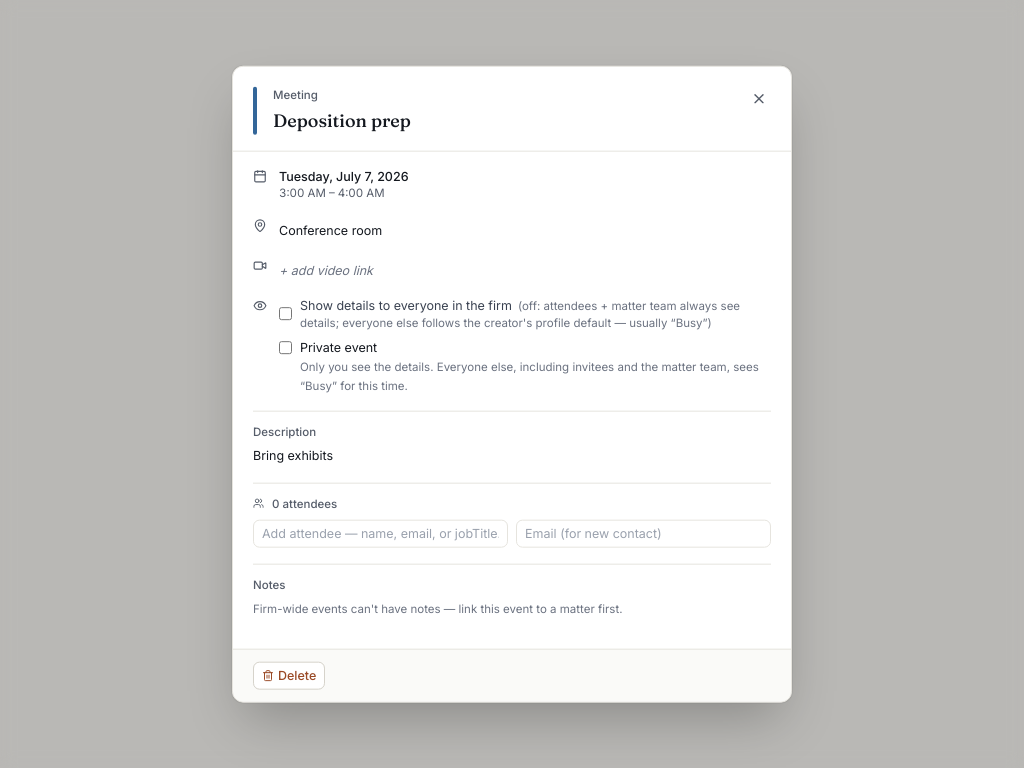
Test case: Escape handling — inline editors cancel without closing the modal › Escape in the title editor cancels the edit, keeps the modal
Click the button "Deposition prep" at (342, 121), box [269,107,415,135]
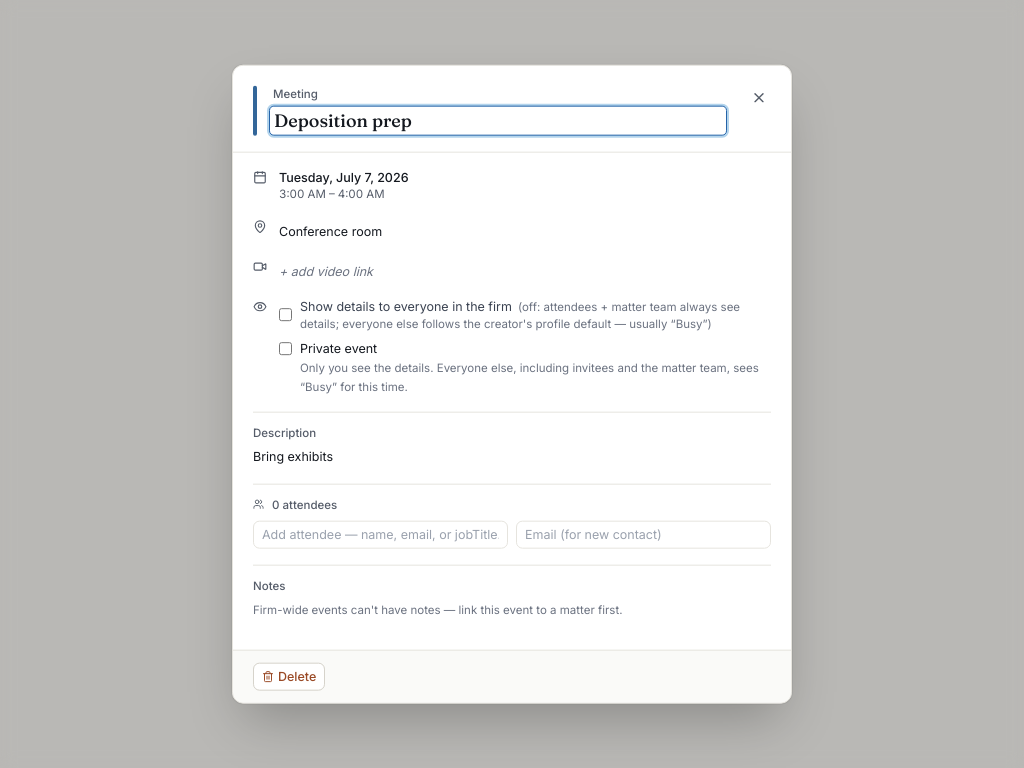
Replace the text in the field named "Event title" with "abandoned edit" at (498, 121), box [269,106,727,136]
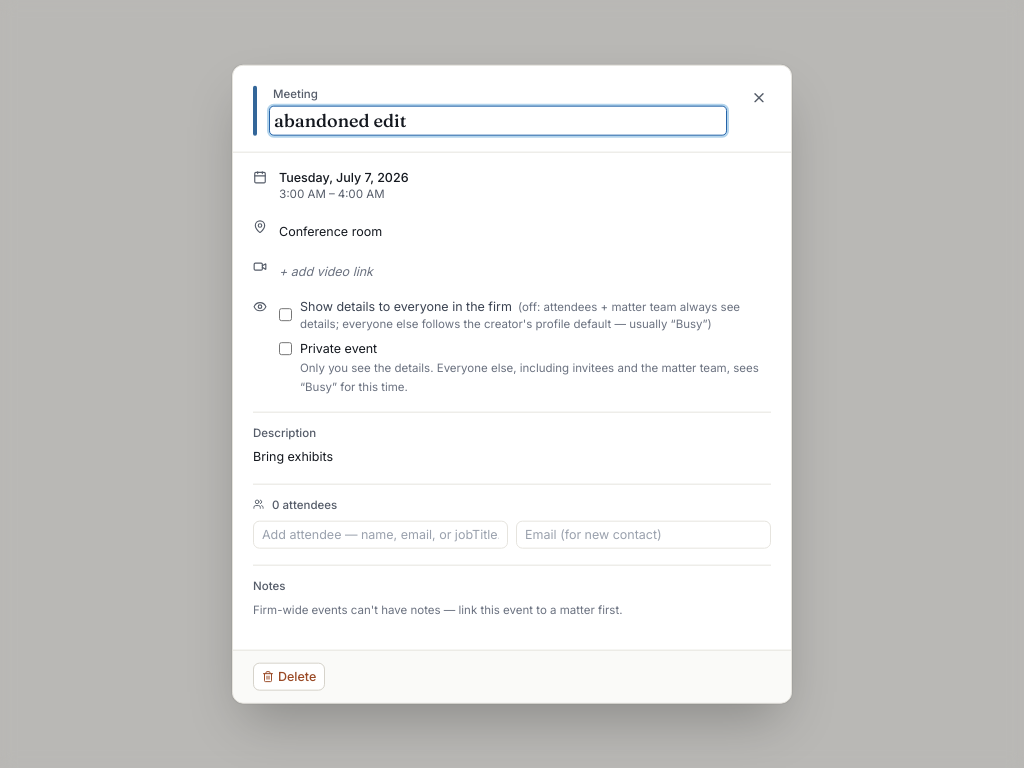
Press Escape
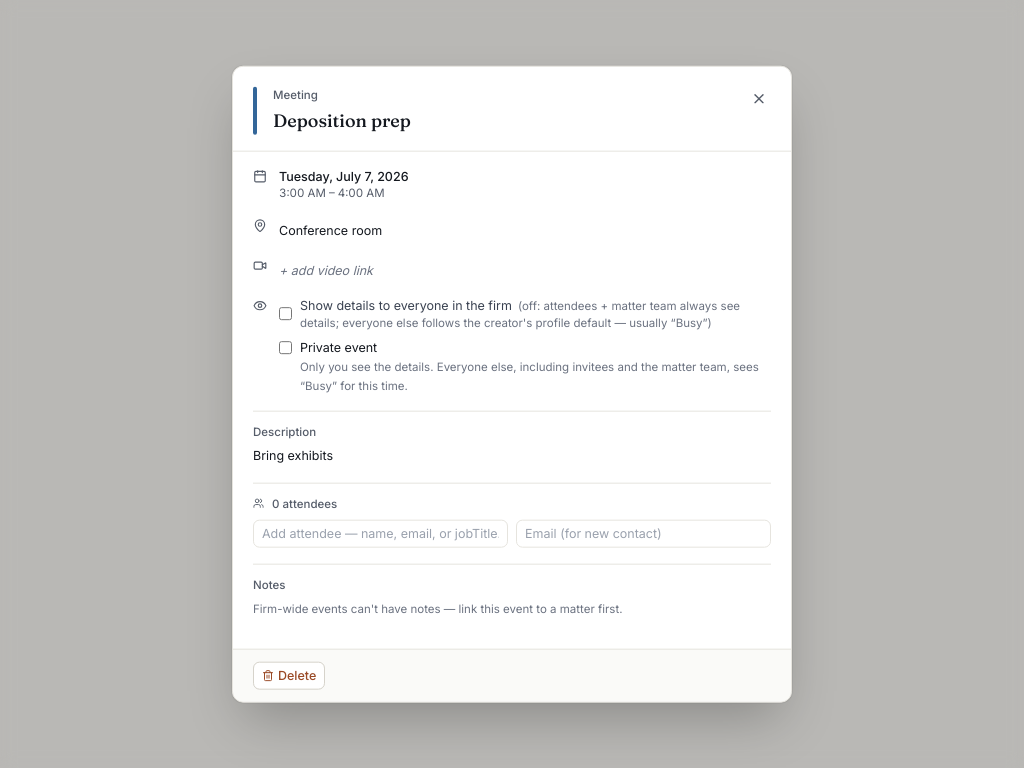
Check: the button "Deposition prep" is shown, box [269,107,415,135]
